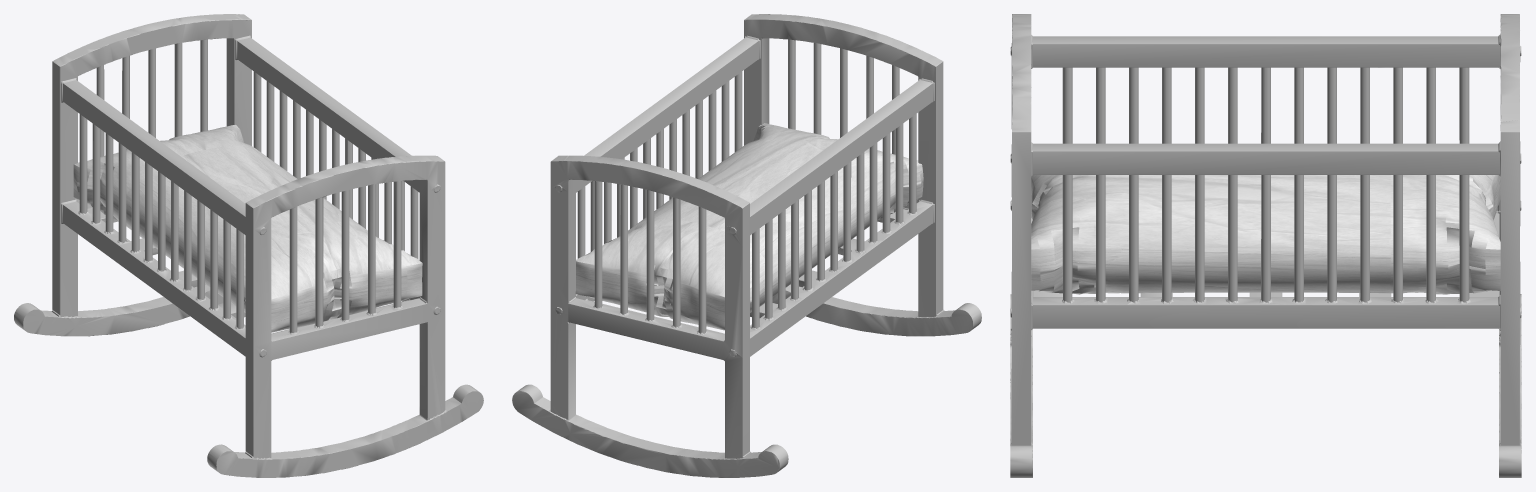
The model's file is cradle.fbx.
The picture shows the model from 3 angles, left to right: view 1: azimuth 30°, elevation 25°; view 2: azimuth 150°, elevation 25°; view 3: azimuth 270°, elevation 25°; orthographic projection. The views are drawn at different scales.
Parts seen in each view (by area): view 1: Spindle- side_024; view 2: Spindle- side_024; view 3: Spindle- side_024.
Boxes of the visible parts, x1,y1,x2,y2 form: Spindle- side_024: [14, 14, 483, 477]; Spindle- side_024: [512, 14, 981, 477]; Spindle- side_024: [1010, 14, 1521, 477].
Size of the model in its own units: 76.2 by 80.57 by 99.72.
